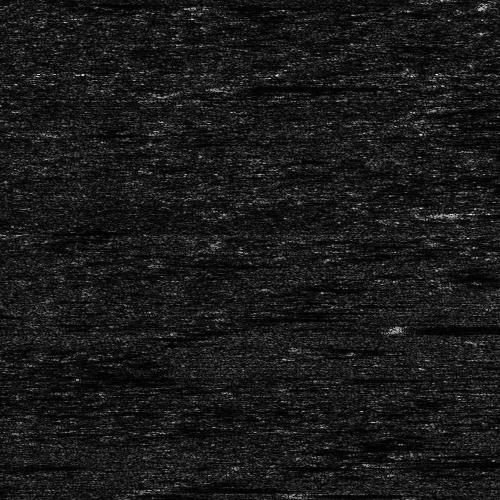object: (390, 207, 483, 220), (346, 458, 419, 465), (211, 81, 252, 92), (275, 490, 338, 497), (399, 325, 420, 330), (155, 485, 176, 488)
shadow: (232, 81, 380, 92), (437, 207, 500, 220), (383, 458, 500, 465), (307, 490, 379, 497), (410, 325, 500, 330), (166, 485, 268, 488)
